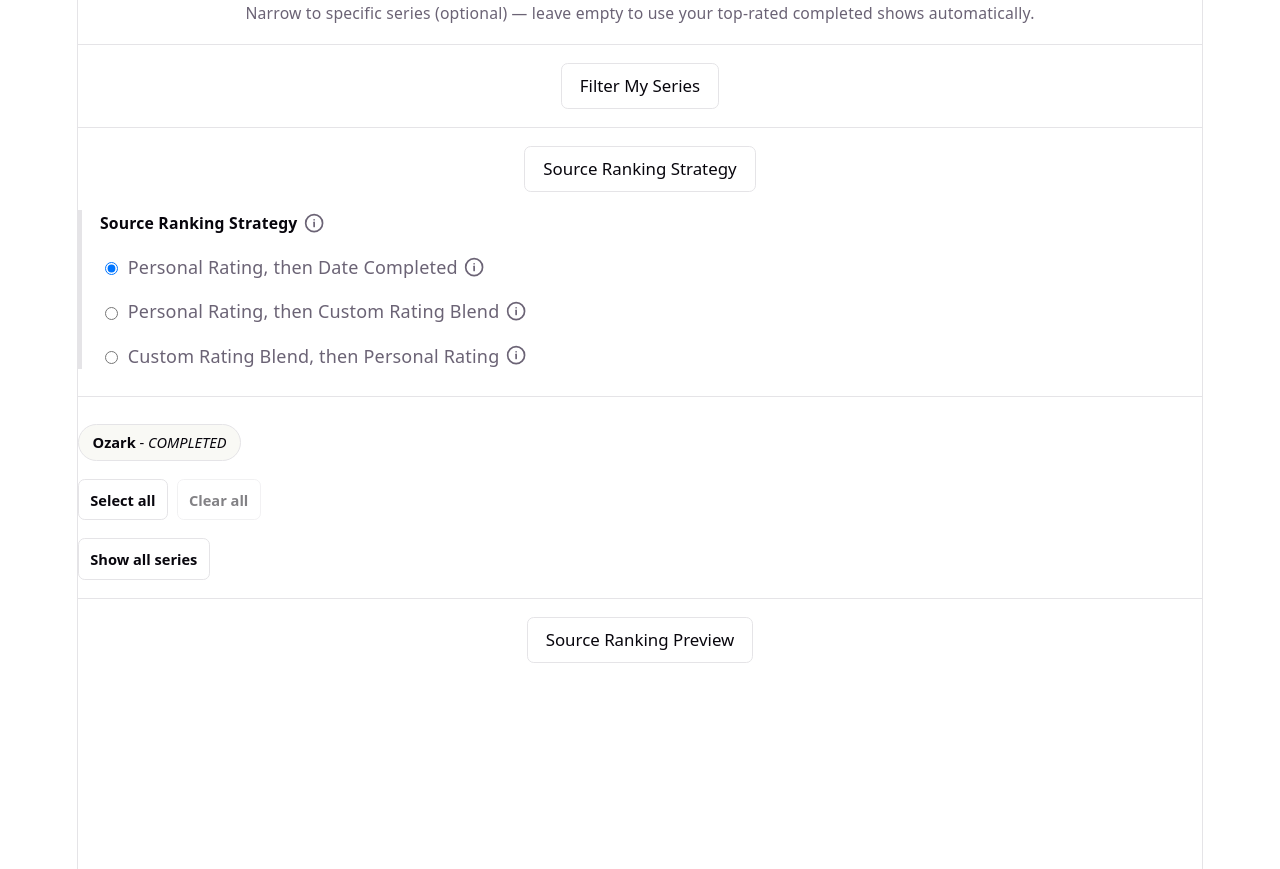
Scenario: FRONTEND-076-AC-05: other include/exclude usages are renamed › renders "Include / Exclude Genres" in UseMySeriesPanel
The image size is (1280, 869).
What coordinates should you click on to do the following:
click the button "Filter My Series"
I would click on:
 (640, 86)
Its box is x1=561 y1=63 x2=719 y2=109.
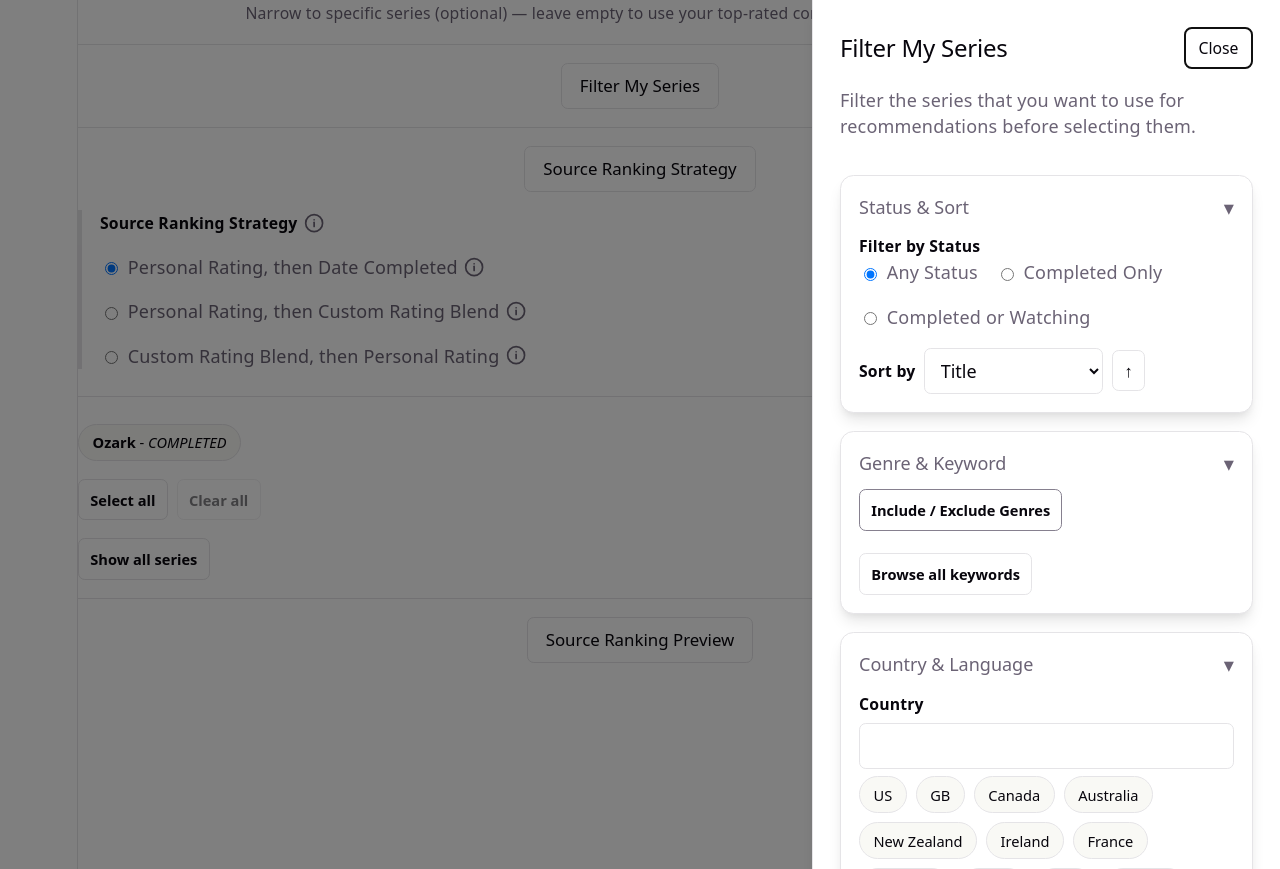
Result: the button "Include / Exclude Genres" is shown at x1=859 y1=489 x2=1062 y2=531
